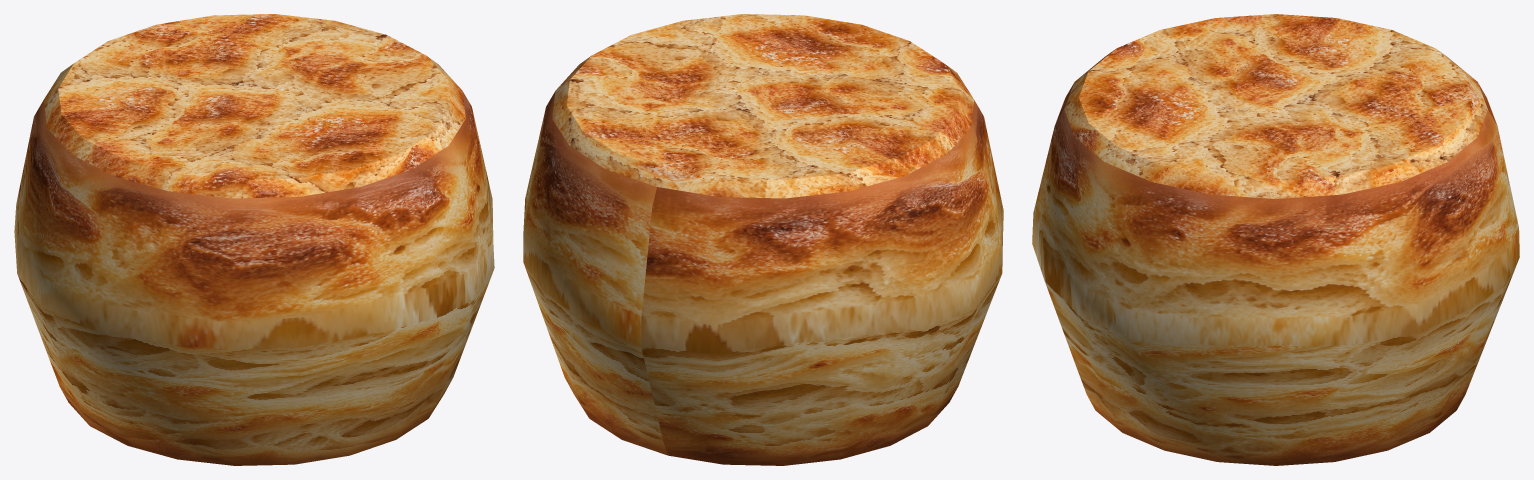
The model's file is scone.fbx.
3 renders of one model, left to right at view 1: azimuth 30°, elevation 25°; view 2: azimuth 150°, elevation 25°; view 3: azimuth 270°, elevation 25°, orthographic.
Parts seen in each view (by area): view 1: scone; view 2: scone; view 3: scone.
Part boxes in pixels (bbox=[...]): scone: bbox=[14, 14, 494, 465]; scone: bbox=[523, 14, 1003, 465]; scone: bbox=[1032, 14, 1519, 465].
Size of the model in its own units: 91.31 by 61.06 by 91.35.
2 materials, 2 textured.
